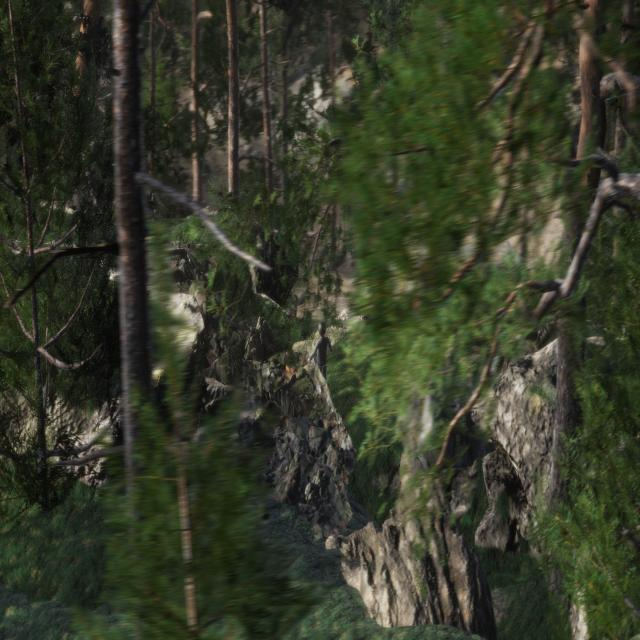Human: (308, 307, 336, 398)
